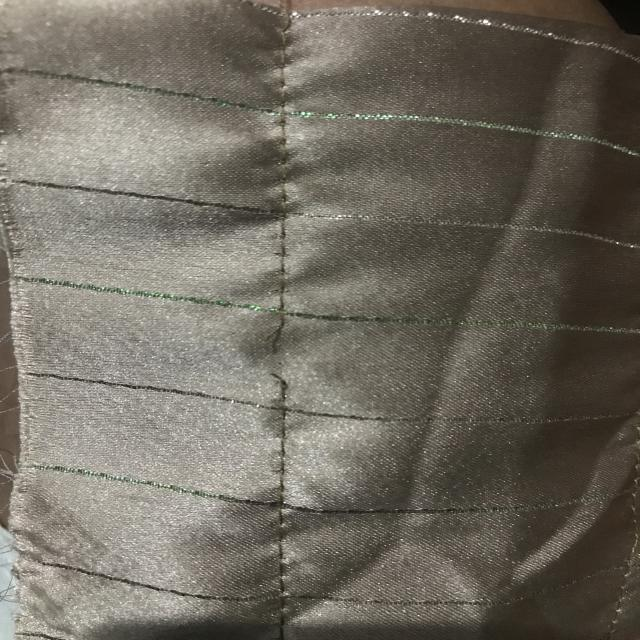broken: (242, 313, 313, 410)
